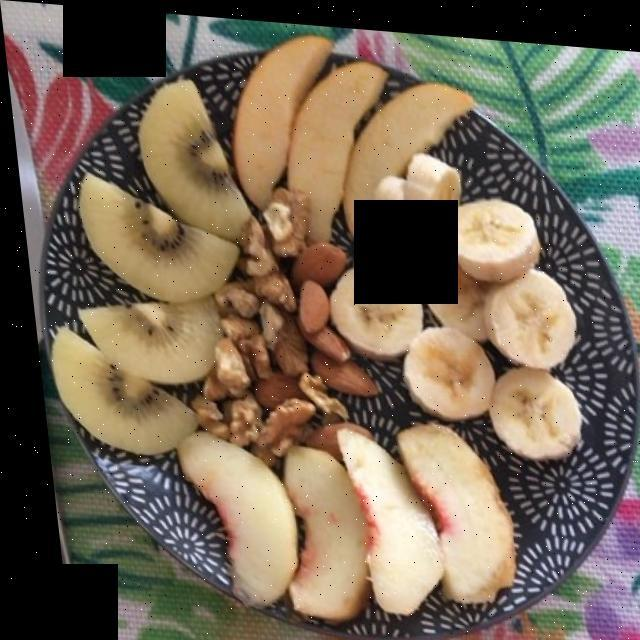apple: (243, 22, 468, 230)
banana: (328, 161, 573, 455)
kiwi: (39, 72, 233, 450)
nuts: (184, 194, 359, 451)
peach: (160, 424, 508, 619)
